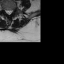CCS_normal: (8, 7, 10, 16)
LFS_normal: (12, 6, 14, 13)
LLS_normal: (10, 7, 12, 15)
RFS_stenosis: (4, 6, 6, 14)
RLS_normal: (6, 7, 8, 15)
